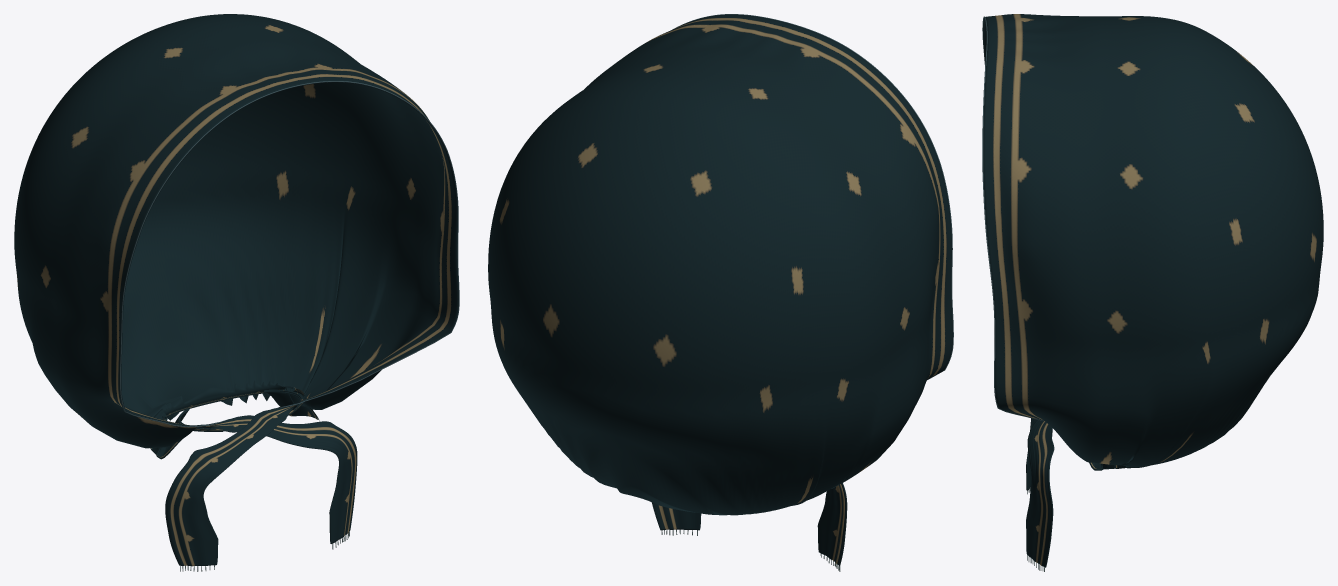
The model's file is Masculine-Masculine-middle-part-tshirt-pashmina250-headgear-f8bb9be2.glb.
The picture shows the model from 3 angles, left to right: view 1: azimuth 30°, elevation 25°; view 2: azimuth 150°, elevation 25°; view 3: azimuth 270°, elevation 25°; orthographic projection. The views are drawn at different scales.
Visible parts, largest first — view 1: 226 headgear / Headwear / continuous woven pashmina239, 226 headgear / Headwear / face edge239; view 2: 226 headgear / Headwear / continuous woven pashmina239, 226 headgear / Headwear / face edge239; view 3: 226 headgear / Headwear / continuous woven pashmina239, 226 headgear / Headwear / face edge239.
Part boxes in pixels (x1=…): 226 headgear / Headwear / continuous woven pashmina239: x1=14, y1=14, x2=458, y2=566; 226 headgear / Headwear / face edge239: x1=120, y1=81, x2=459, y2=427; 226 headgear / Headwear / continuous woven pashmina239: x1=488, y1=14, x2=952, y2=566; 226 headgear / Headwear / face edge239: x1=672, y1=14, x2=953, y2=379; 226 headgear / Headwear / continuous woven pashmina239: x1=983, y1=14, x2=1323, y2=567; 226 headgear / Headwear / face edge239: x1=982, y1=16, x2=1043, y2=420.
Size of the model in its own units: 1.1 by 1.41 by 0.882.
3 materials, 1 textured.
